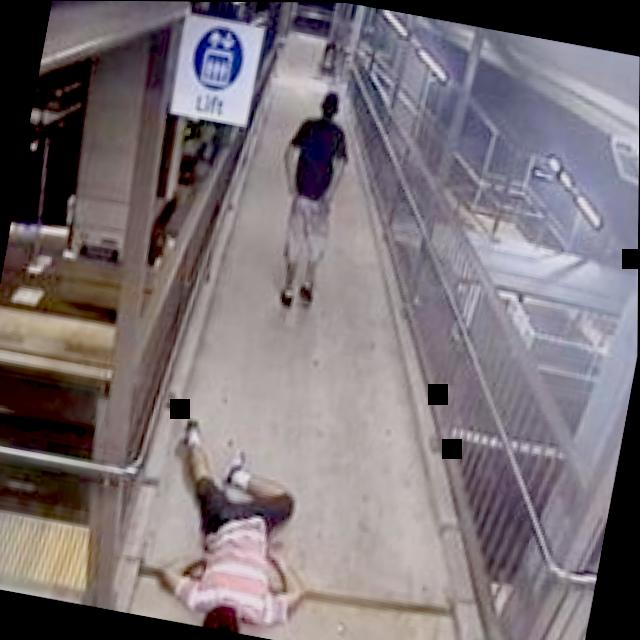Fall-Detected: (122, 390, 331, 640)
